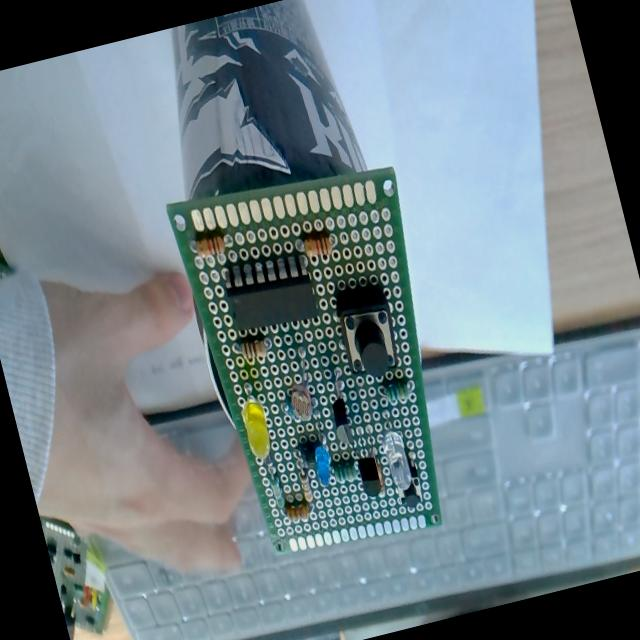IC: (215, 246, 322, 336)
cds: (274, 336, 330, 428)
led: (228, 376, 284, 466), (373, 412, 418, 493), (302, 416, 342, 490)
resistor: (293, 228, 343, 264), (186, 228, 236, 263), (369, 376, 422, 409), (229, 332, 276, 367), (278, 498, 318, 528), (327, 457, 364, 488), (294, 456, 316, 504), (266, 464, 286, 511)
switch: (328, 280, 407, 380)
transistor: (316, 366, 361, 451), (350, 432, 390, 500)
